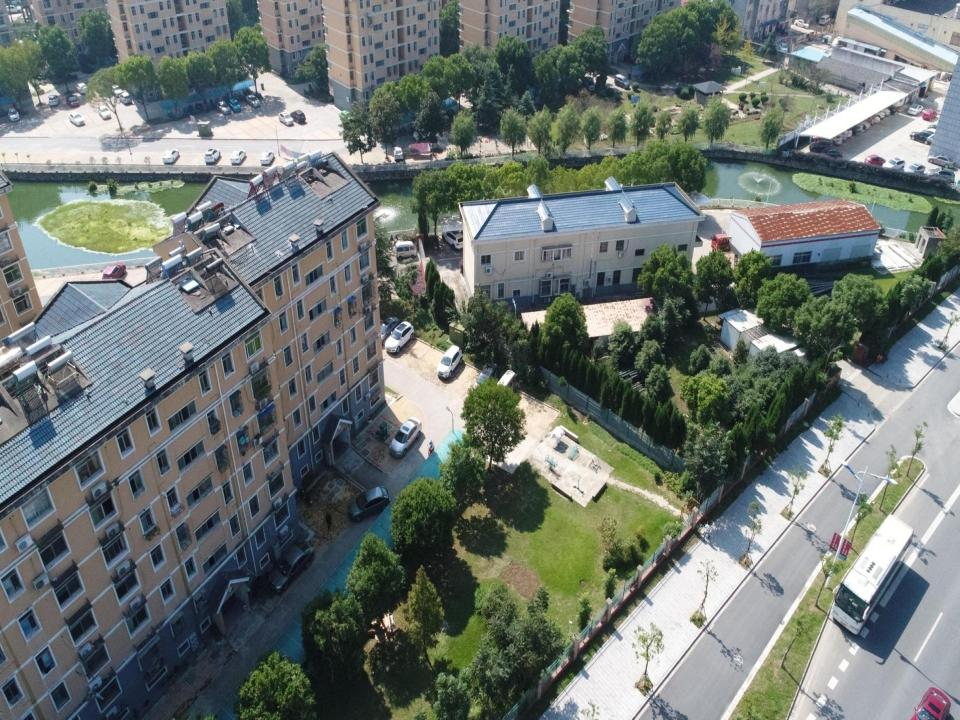bus: (830, 508, 914, 639)
car: (270, 534, 314, 592), (346, 488, 393, 519), (908, 686, 951, 719), (394, 418, 420, 462), (384, 322, 414, 358), (437, 345, 464, 383), (444, 222, 464, 252), (376, 316, 402, 339), (498, 365, 517, 396), (928, 151, 956, 170), (925, 166, 956, 183), (881, 156, 905, 175), (810, 134, 834, 152), (394, 240, 418, 258), (478, 363, 493, 389), (202, 149, 222, 168), (257, 149, 276, 168), (228, 148, 248, 166), (819, 146, 843, 160), (66, 112, 88, 127), (863, 154, 885, 169), (160, 149, 180, 164), (912, 129, 932, 144), (120, 89, 134, 109), (286, 109, 306, 123), (906, 164, 926, 178), (245, 94, 262, 110), (614, 74, 631, 90), (98, 101, 111, 121), (8, 105, 22, 122), (65, 91, 78, 109), (228, 97, 241, 115), (47, 92, 61, 108), (218, 101, 230, 117), (907, 103, 923, 115), (922, 108, 937, 120), (792, 19, 808, 30), (111, 84, 122, 98), (846, 124, 860, 134), (866, 114, 880, 124), (77, 81, 88, 93), (834, 134, 844, 146), (859, 120, 871, 130), (864, 115, 876, 125), (879, 107, 891, 117), (886, 104, 898, 114), (820, 14, 832, 23), (855, 120, 864, 132), (874, 110, 886, 118), (278, 110, 284, 125), (846, 129, 852, 138)
van: (581, 74, 595, 91), (394, 145, 404, 161), (834, 129, 846, 141)
